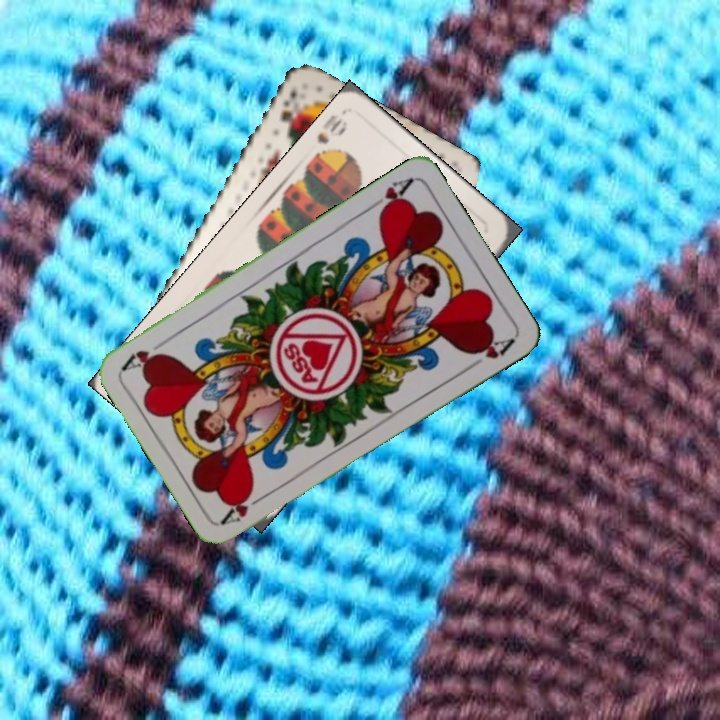HA: (363, 174, 415, 219), (218, 487, 271, 527)
S10: (309, 110, 350, 163)
SK: (276, 84, 300, 125)
